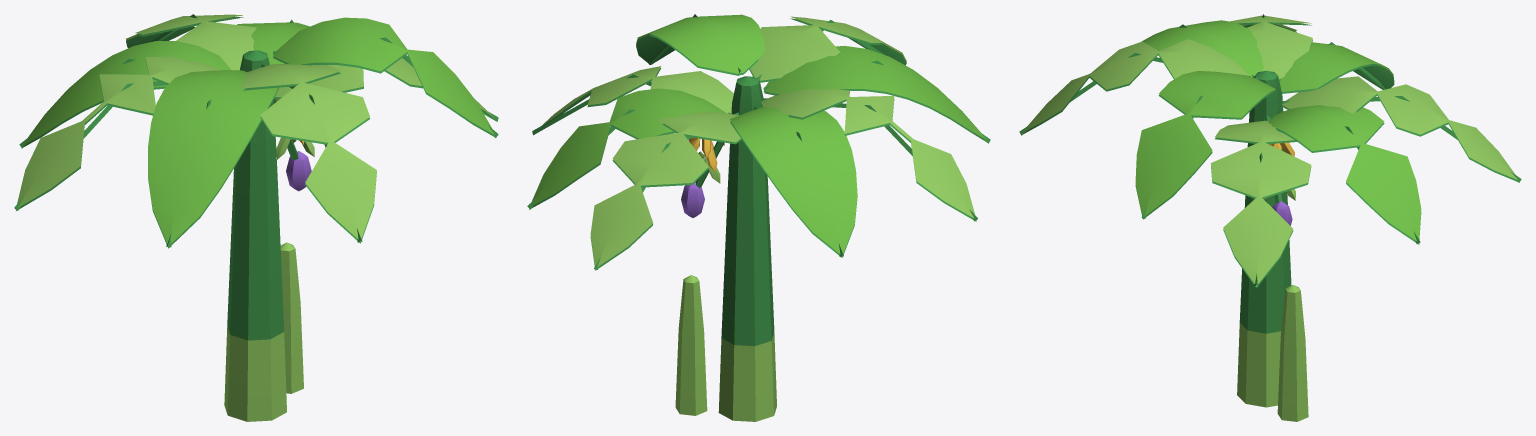
The model's file is Platanera.fbx.
3 views of the same model, side by side, from view 1: azimuth 30°, elevation 25°; view 2: azimuth 150°, elevation 25°; view 3: azimuth 270°, elevation 25° (orthographic). The views are drawn at different scales.
Parts seen in each view (by area): view 1: Platanera; view 2: Platanera; view 3: Platanera.
Boxes of the visible parts, x1,y1,x2,y2 form: Platanera: (14,14,498,421); Platanera: (527,14,990,421); Platanera: (1019,14,1521,421).
Bounding box in the file's own units: 9.43 × 7.09 × 9.41.
1 material, 1 textured.
